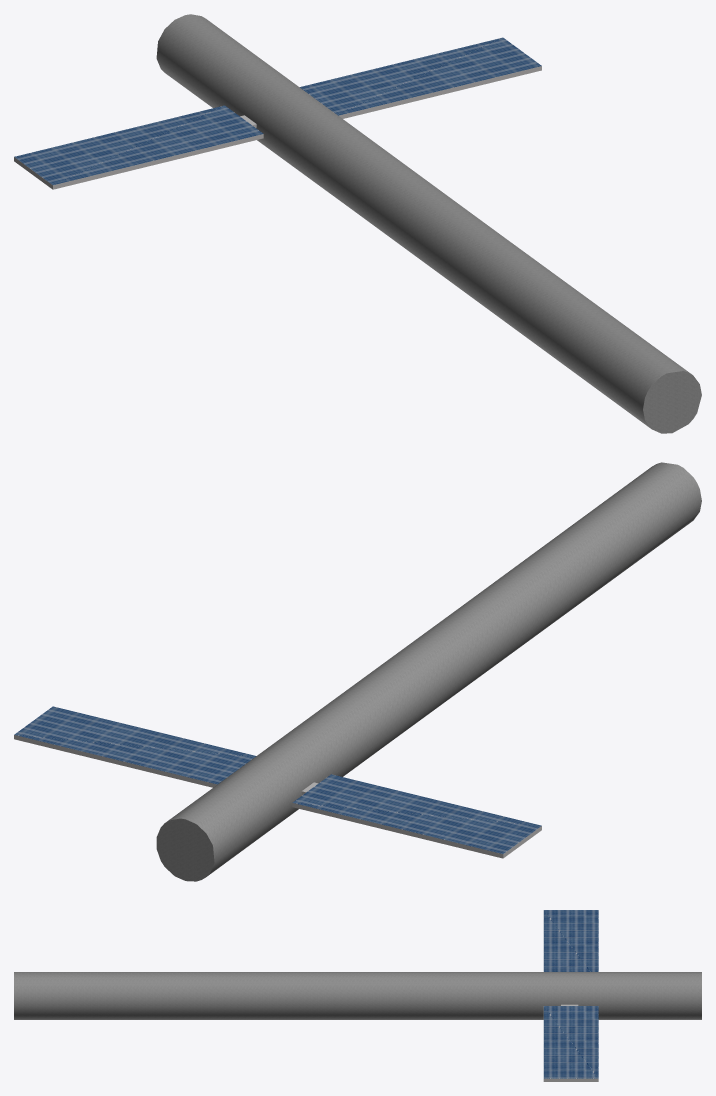
File: rocket-v0.2.glb
The picture shows the model from 3 angles, top to bottom: view 1: azimuth 30°, elevation 25°; view 2: azimuth 150°, elevation 25°; view 3: azimuth 270°, elevation 25°; orthographic projection. The views are drawn at different scales.
Visible parts, largest first — view 1: Body1, Body2; view 2: Body1, Body2; view 3: Body1, Body2.
Part boxes in pixels (x1,y1,x2,y2): Body1: (156, 14, 701, 433); Body2: (14, 37, 541, 189); Body1: (156, 462, 701, 881); Body2: (14, 706, 541, 858); Body1: (14, 972, 701, 1019); Body2: (543, 910, 598, 1081).
Size of the model in its own units: 58 by 7 by 100.
3 materials, 2 textured.
